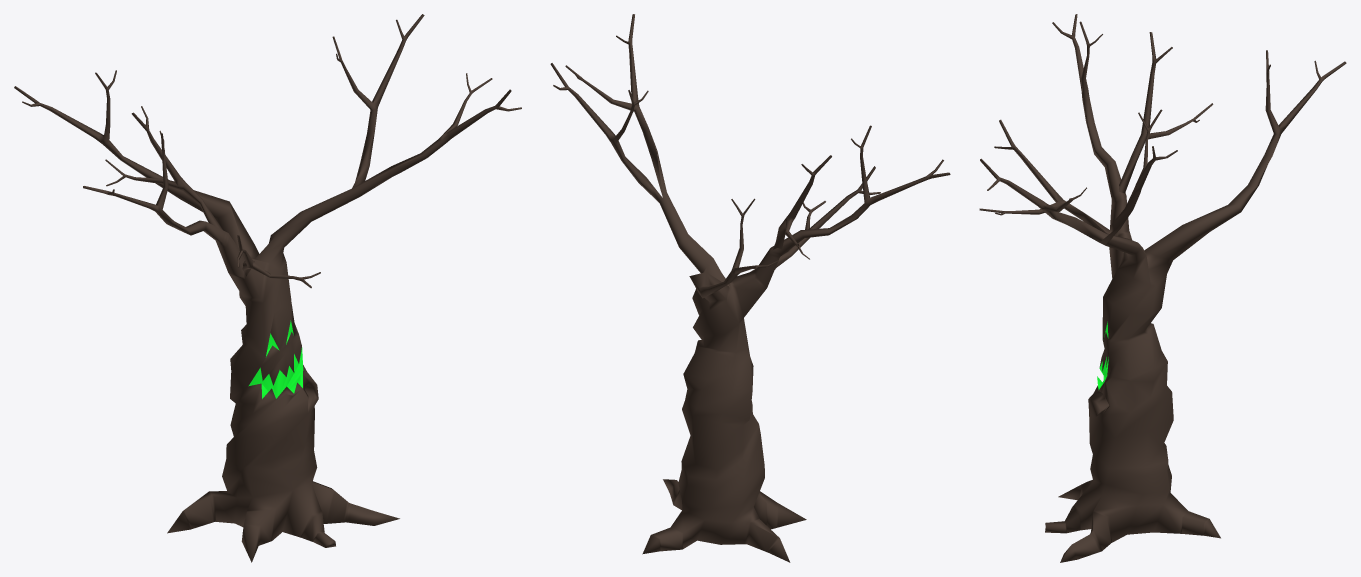
File: SpookyTree08.glb
3 renders of one model, left to right at view 1: azimuth 30°, elevation 25°; view 2: azimuth 150°, elevation 25°; view 3: azimuth 270°, elevation 25°, orthographic. The views are drawn at different scales.
Parts seen in each view (by area): view 1: SpookyTree08; view 2: SpookyTree08; view 3: SpookyTree08.
Boxes of the visible parts, left/top/right/bottom form: SpookyTree08: left=14, top=14, right=521, bottom=562; SpookyTree08: left=550, top=14, right=950, bottom=562; SpookyTree08: left=979, top=14, right=1346, bottom=562.
Size of what is drawn, in the model's own units: 6.06 by 6.56 by 4.77.
Materials: 2 (2 with a texture image).
